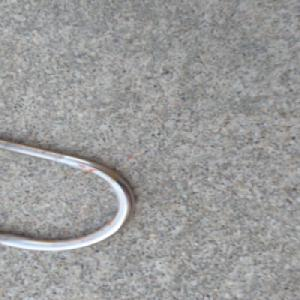ClampPart: (0, 136, 141, 252)
